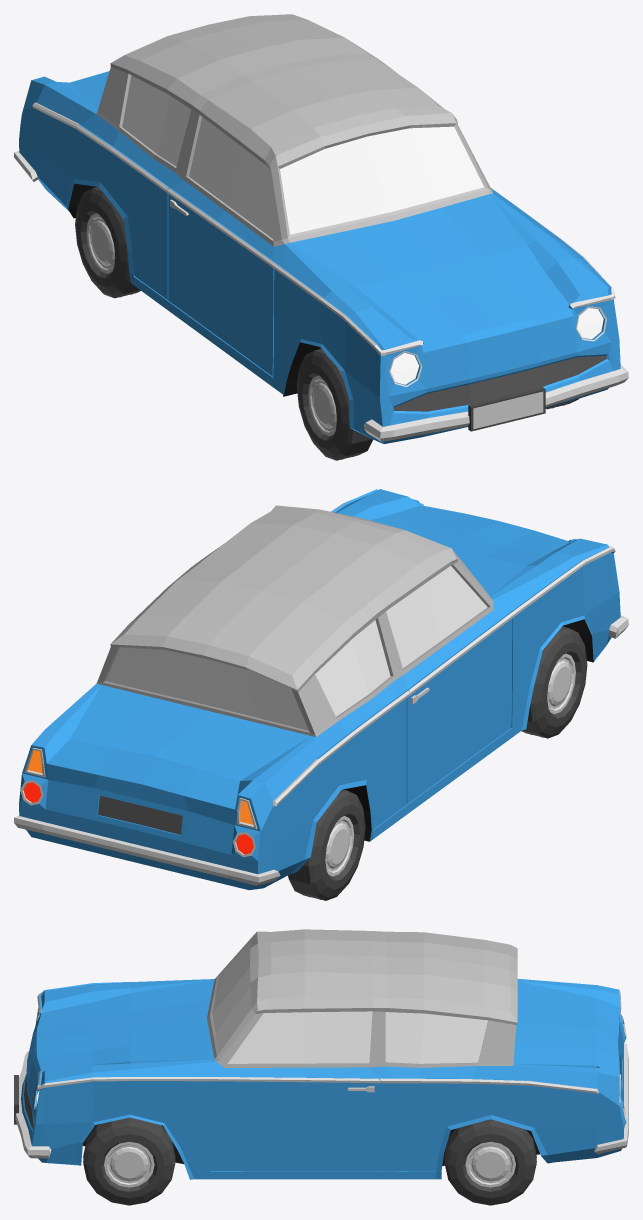
File: ford_anglia.glb
3 views of the same model, one above another, from view 1: azimuth 30°, elevation 25°; view 2: azimuth 150°, elevation 25°; view 3: azimuth 270°, elevation 25° (orthographic). The views are drawn at different scales.
Parts seen in each view (by area): view 1: Car_Body, Wheel_FL, Wheel_RL; view 2: Car_Body, Wheel_RL, Wheel_FL; view 3: Car_Body, Wheel_FR, Wheel_RR.
Part boxes in pixels (<box>): Car_Body: <box>14,14,628,443</box>; Wheel_FL: <box>297,348,373,460</box>; Wheel_RL: <box>75,187,140,298</box>; Car_Body: <box>14,489,628,890</box>; Wheel_RL: <box>288,789,365,900</box>; Wheel_FL: <box>521,626,587,738</box>; Car_Body: <box>14,929,628,1179</box>; Wheel_FR: <box>83,1117,175,1205</box>; Wheel_RR: <box>444,1119,536,1205</box>.
Size of the model in its own units: 1.53 by 1.45 by 3.93.
